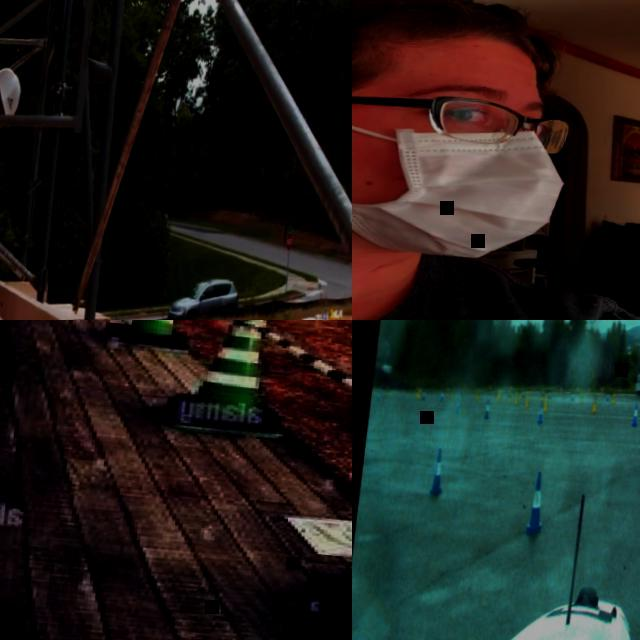helmet: (0, 63, 24, 127)
mask: (352, 103, 575, 272)
no_helmet: (352, 0, 546, 102)
no_vest: (352, 221, 640, 320)
person: (352, 0, 640, 320)
safety_cone: (275, 396, 352, 640), (167, 320, 300, 441), (102, 320, 208, 356), (526, 468, 550, 534), (430, 446, 450, 494), (538, 400, 546, 422), (633, 400, 640, 425), (485, 396, 493, 417), (593, 393, 599, 412), (526, 389, 532, 407), (456, 394, 462, 412), (515, 388, 521, 402), (508, 387, 514, 401), (498, 384, 503, 400), (545, 394, 550, 409), (441, 385, 446, 400), (494, 383, 500, 395), (476, 386, 482, 398), (377, 386, 382, 400), (542, 387, 547, 400), (572, 388, 577, 400), (423, 387, 428, 398), (613, 391, 618, 402), (581, 389, 585, 402), (607, 390, 612, 400), (416, 384, 421, 394), (550, 386, 554, 397), (419, 386, 423, 396), (588, 383, 592, 391), (601, 385, 605, 392), (619, 384, 622, 393), (561, 384, 564, 392)
vehicle: (169, 271, 244, 320)
